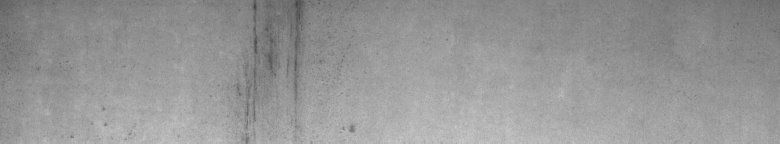ka: (228, 4, 355, 136)
